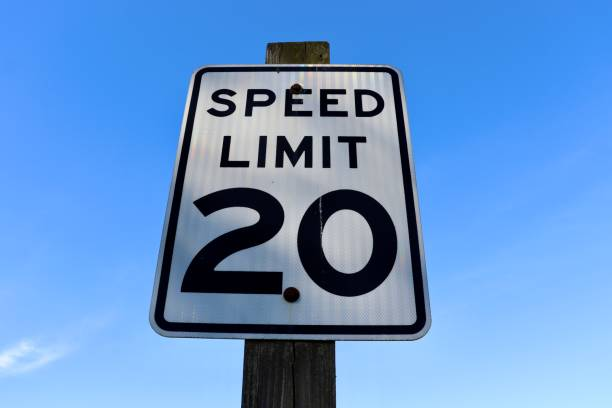SpeedLimitSign: (147, 63, 432, 342)
